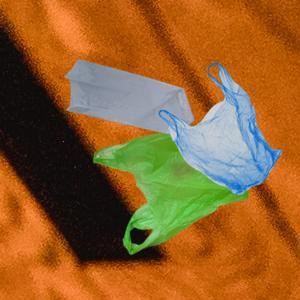plastic_bag: (91, 127, 253, 255), (161, 61, 283, 197)
